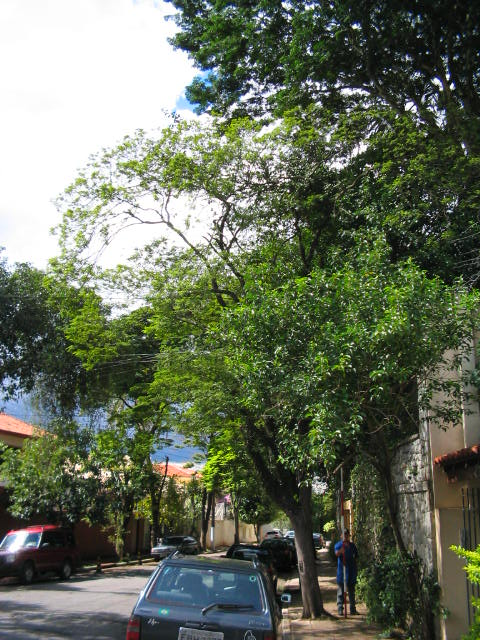crown: (43, 109, 474, 503)
stem: (277, 521, 336, 619)
stick: (332, 467, 352, 619)
tree: (39, 107, 475, 621)
